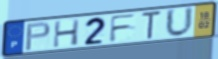2: (82, 15, 108, 47)
F: (108, 13, 138, 44)
H: (52, 18, 82, 49)
P: (24, 21, 52, 52)
T: (140, 10, 163, 41)
U: (165, 6, 195, 39)
